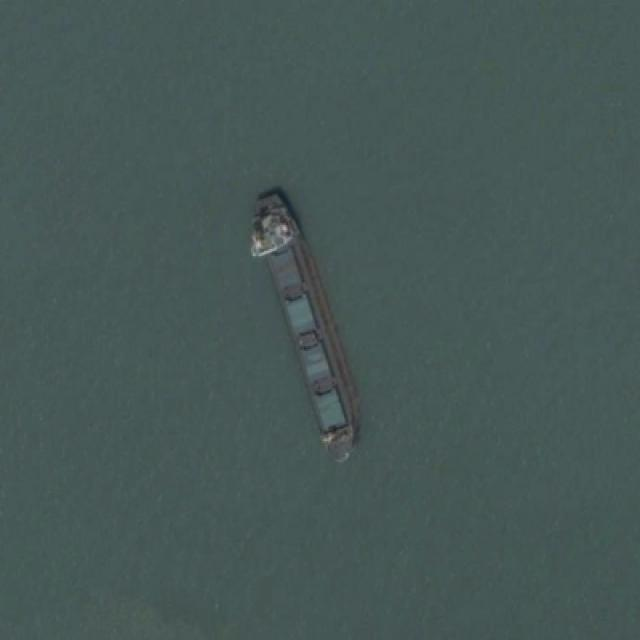boat: (250, 188, 362, 466)
